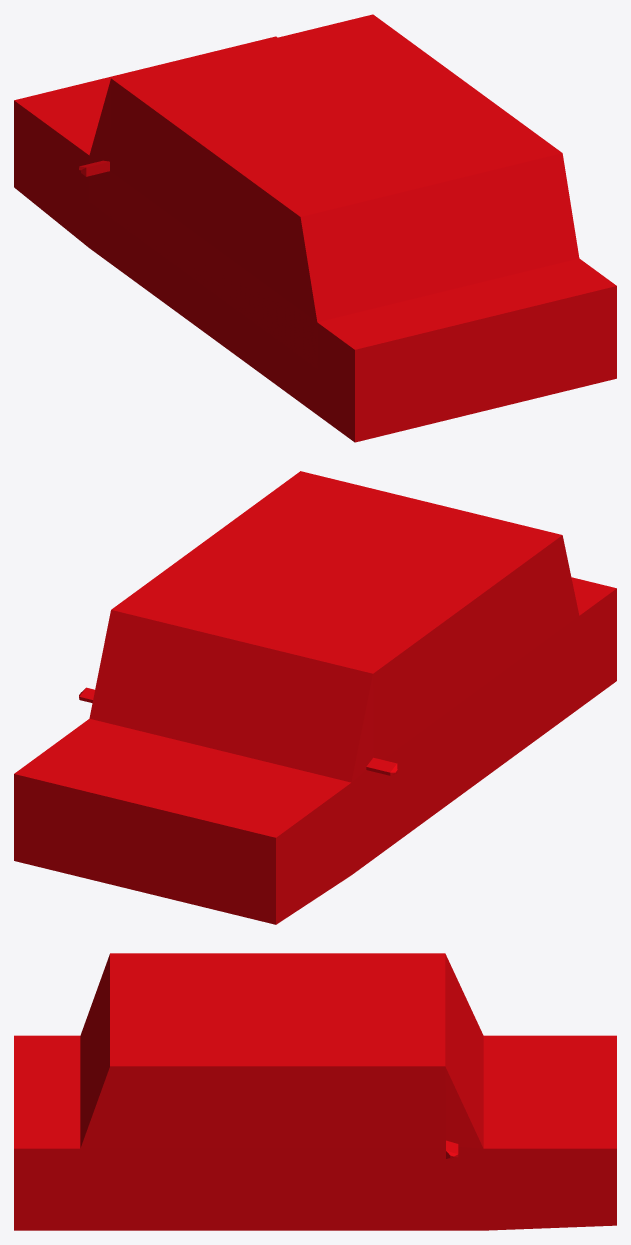
File: Car.fbx
3 renders of one model, top to bottom at view 1: azimuth 30°, elevation 25°; view 2: azimuth 150°, elevation 25°; view 3: azimuth 270°, elevation 25°, orthographic. The views are drawn at different scales.
Visible parts, largest first — view 1: Cube; view 2: Cube; view 3: Cube.
Boxes of the visible parts, x1,y1,x2,y2 form: Cube: (14, 14, 616, 442); Cube: (14, 471, 616, 924); Cube: (14, 953, 616, 1230).
Bounding box in the file's own units: 242 × 135 × 451.
